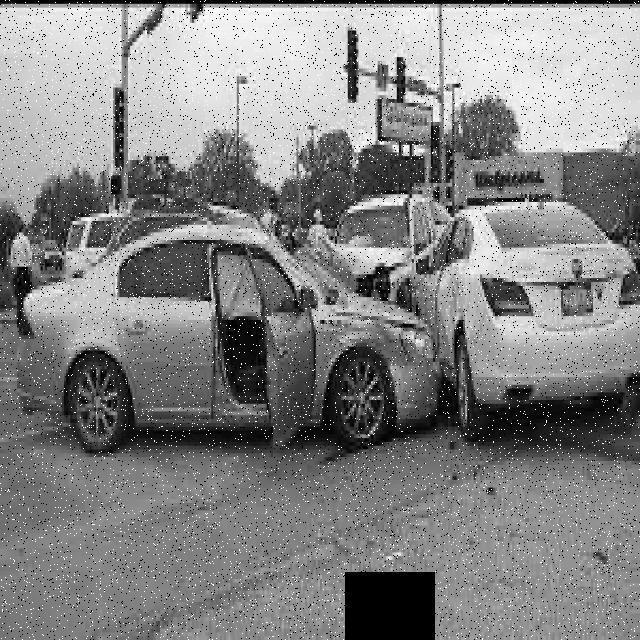accident: (20, 206, 640, 458), (0, 1, 2, 3)
